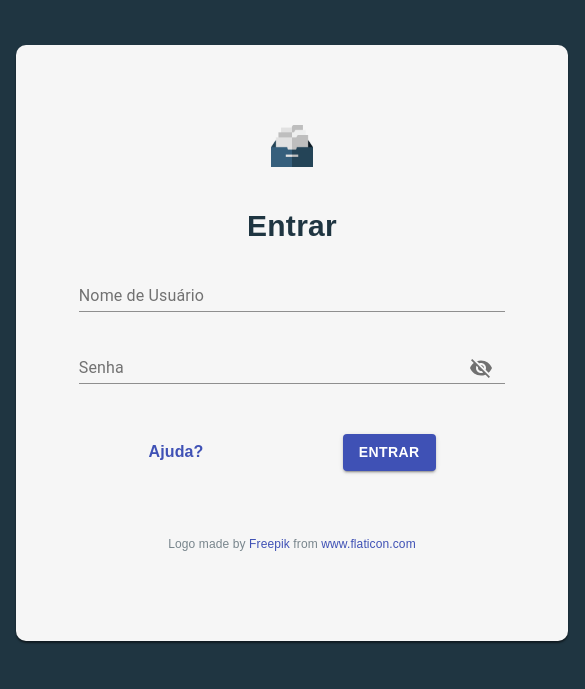
Test: Login Screen Test › axios error 404
Step 1. Type "teste" into the field labelled "Nome de Usuário" → (292, 296), box [79,280,505,312]
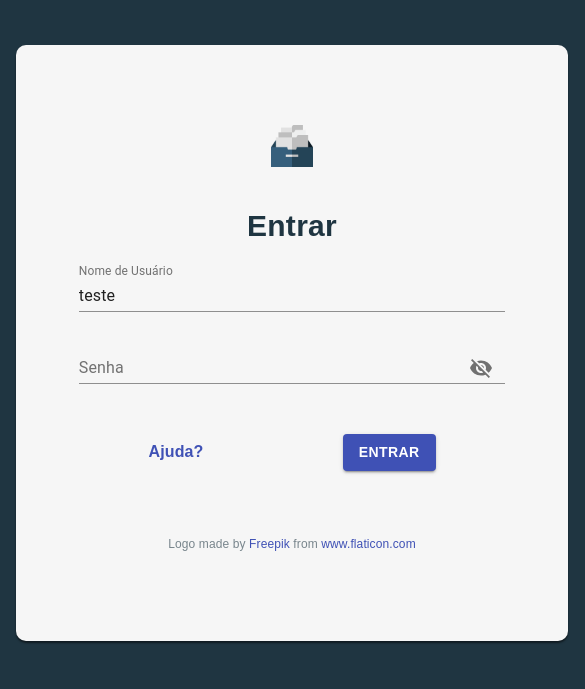
Step 2. Type "teste123" into the password field labelled "Senha" → (264, 368), box [79,352,449,384]
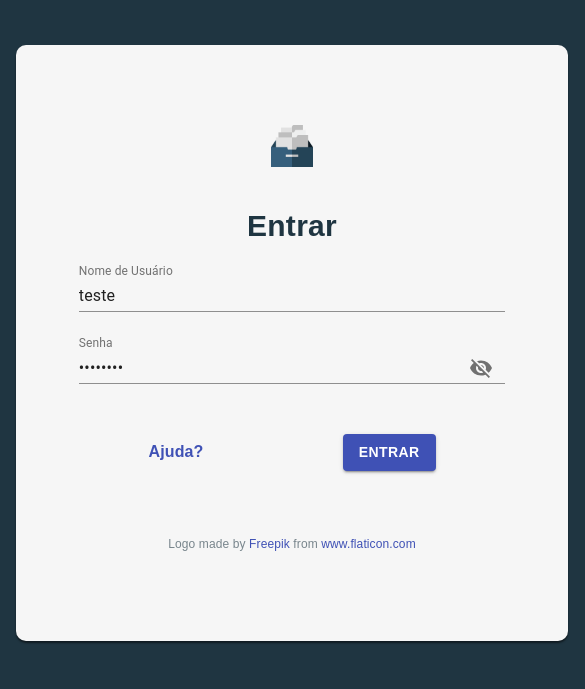
Step 3. Click the button "Entrar" → (389, 452), box [343,434,436,470]
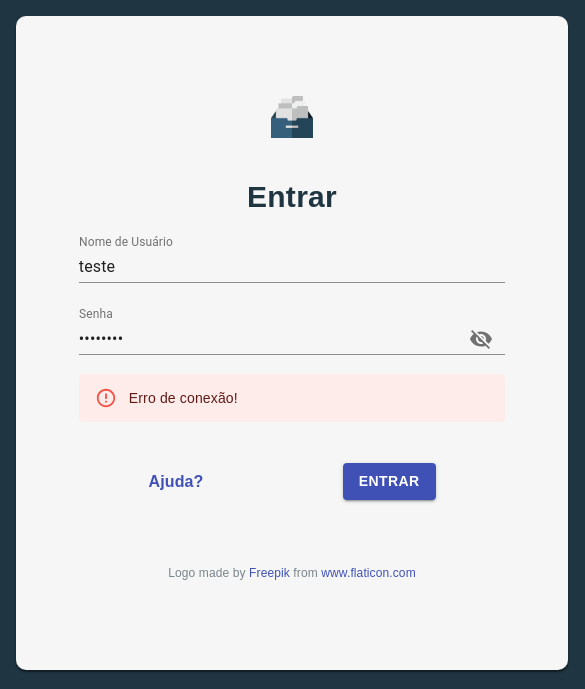
Now the text "Erro de conexão!" is shown, box [129,390,238,406]
